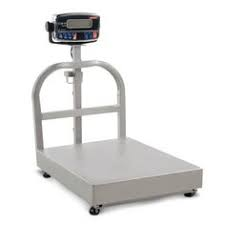Industrial Scale: (31, 10, 204, 216)
